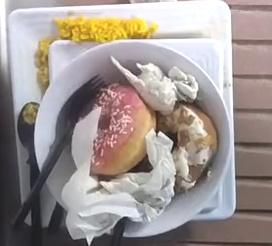donut: (158, 103, 217, 193)
rice: (54, 15, 157, 41)
